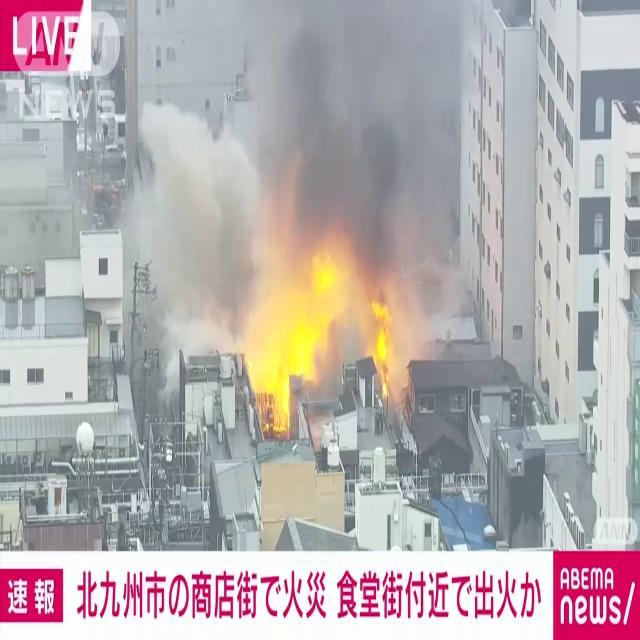Fire: (244, 226, 360, 434), (365, 284, 401, 401)
Smoke: (128, 3, 466, 316)
